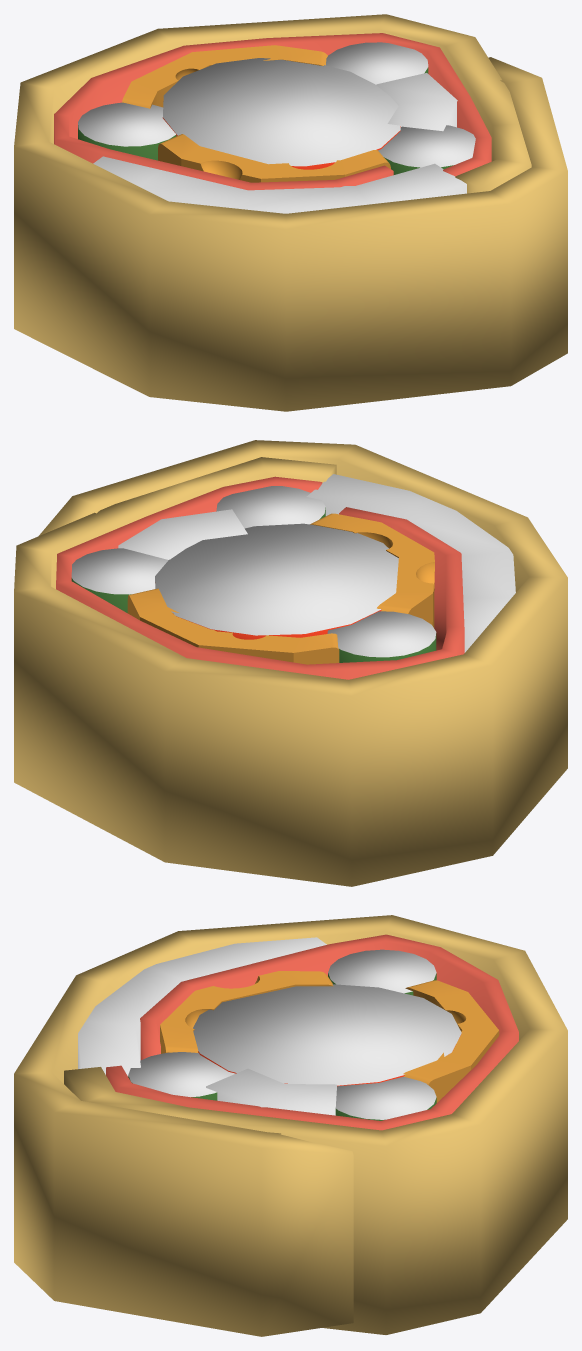
Rendered from Roll Sandwich.fbx.
The picture shows the model from 3 angles, top to bottom: view 1: azimuth 30°, elevation 25°; view 2: azimuth 150°, elevation 25°; view 3: azimuth 270°, elevation 25°; orthographic projection. The views are drawn at different scales.
Visible parts, largest first — view 1: Plane.005, Cube.042, Plane.004, Plane.007, Cube.044, Cylinder.019, Cube.043, Cylinder.018, Plane.006, Cylinder.017; view 2: Plane.005, Cube.042, Plane.004, Plane.007, Cube.043, Cube.044, Cylinder.019, Cylinder.017, Plane.006, Cylinder.018; view 3: Plane.005, Cube.042, Plane.004, Plane.007, Cube.043, Cube.044, Plane.006, Cylinder.019, Cylinder.017, Cylinder.018.
Part boxes in pixels (<box>): Plane.005: <box>14,14,567,411</box>; Cube.042: <box>162,58,400,169</box>; Plane.004: <box>54,33,491,190</box>; Plane.007: <box>93,156,466,213</box>; Cube.044: <box>158,134,390,182</box>; Cylinder.019: <box>78,102,176,160</box>; Cube.043: <box>122,45,327,108</box>; Cylinder.018: <box>378,125,475,174</box>; Plane.006: <box>376,73,457,131</box>; Cylinder.017: <box>326,42,428,84</box>; Plane.005: <box>14,440,567,886</box>; Cube.042: <box>155,523,398,639</box>; Plane.004: <box>56,476,464,679</box>; Plane.007: <box>306,474,515,652</box>; Cube.043: <box>127,588,339,664</box>; Cube.044: <box>310,513,434,628</box>; Cylinder.019: <box>327,611,436,662</box>; Cylinder.017: <box>71,548,168,612</box>; Plane.006: <box>118,509,247,559</box>; Cylinder.018: <box>216,486,325,528</box>; Plane.005: <box>14,915,567,1336</box>; Cube.042: <box>193,984,461,1086</box>; Plane.004: <box>106,934,518,1130</box>; Plane.007: <box>78,937,326,1076</box>; Cube.043: <box>403,980,499,1102</box>; Cube.044: <box>160,971,333,1053</box>; Plane.006: <box>206,1068,336,1115</box>; Cylinder.019: <box>328,949,436,995</box>; Cylinder.017: <box>335,1076,436,1120</box>; Cylinder.018: <box>128,1052,235,1100</box>.
Size of the model in its own units: 29.11 by 12.67 by 29.02.
